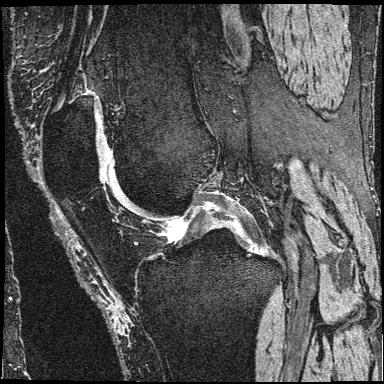SagKneeJointArea: (42, 95, 285, 316)
